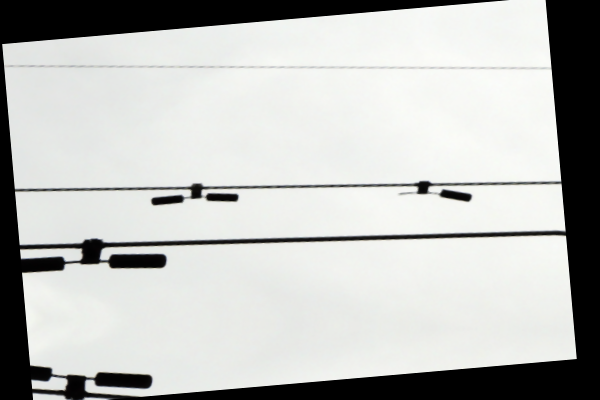damper: (20, 236, 167, 275), (149, 182, 241, 207)
damper_defect: (395, 178, 473, 205)
